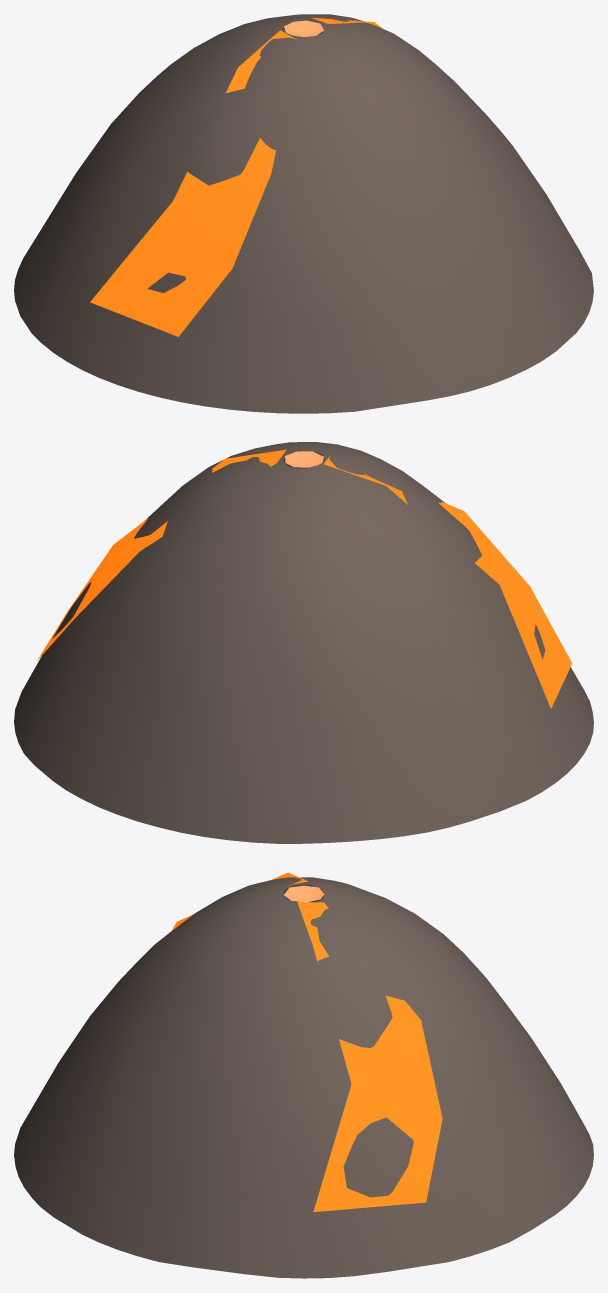
Rendered from volcano_shield_low.glb.
3 views of the same model, one above another, from view 1: azimuth 30°, elevation 25°; view 2: azimuth 150°, elevation 25°; view 3: azimuth 270°, elevation 25° (orthographic).
Visible parts, largest first — view 1: Volcano_ShieldCone_LOW, Volcano_ShieldLavaFlow_01_LOW, Volcano_ShieldCraterInner_LOW; view 2: Volcano_ShieldCone_LOW, Volcano_ShieldLavaFlow_01_LOW, Volcano_ShieldCraterInner_LOW; view 3: Volcano_ShieldCone_LOW, Volcano_ShieldLavaFlow_01_LOW, Volcano_ShieldCraterInner_LOW.
Part boxes in pixels (bbox=[...]): Volcano_ShieldCone_LOW: bbox=[14, 14, 593, 413]; Volcano_ShieldLavaFlow_01_LOW: bbox=[90, 17, 382, 336]; Volcano_ShieldCraterInner_LOW: bbox=[284, 20, 323, 36]; Volcano_ShieldCone_LOW: bbox=[14, 442, 593, 843]; Volcano_ShieldLavaFlow_01_LOW: bbox=[37, 449, 572, 708]; Volcano_ShieldCraterInner_LOW: bbox=[285, 451, 323, 467]; Volcano_ShieldCone_LOW: bbox=[14, 877, 593, 1278]; Volcano_ShieldLavaFlow_01_LOW: bbox=[172, 872, 442, 1212]; Volcano_ShieldCraterInner_LOW: bbox=[284, 885, 324, 902].
Bounding box in the file's own units: 2 × 1.01 × 2.
